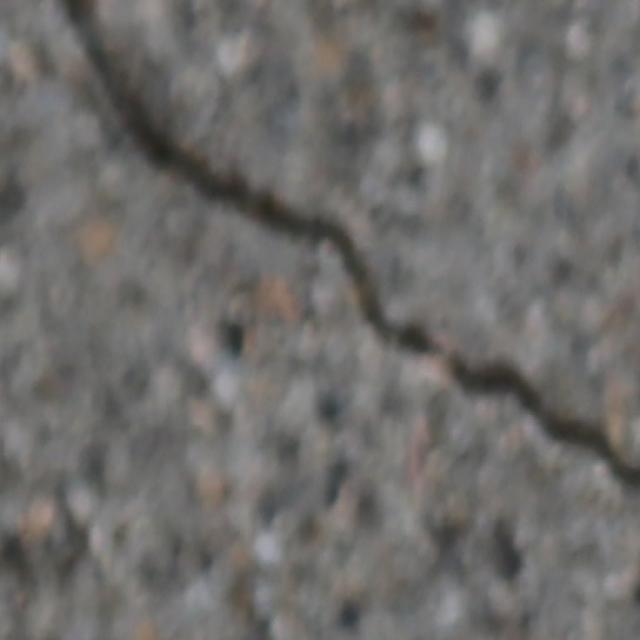Diagonal: (44, 0, 640, 511)
